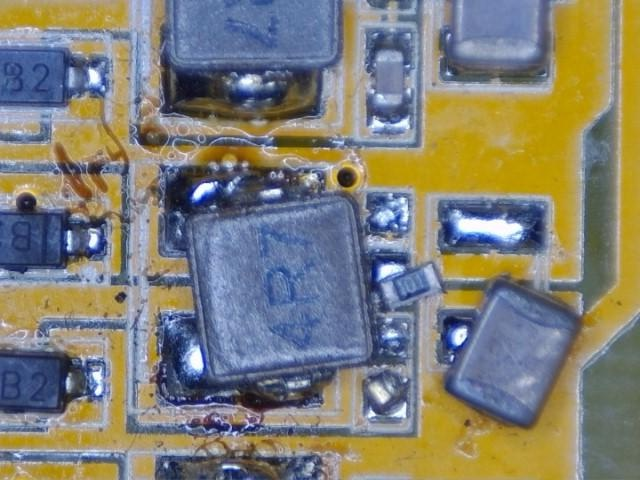pcb_defect: (157, 167, 376, 409), (439, 276, 585, 432), (371, 255, 447, 312)
